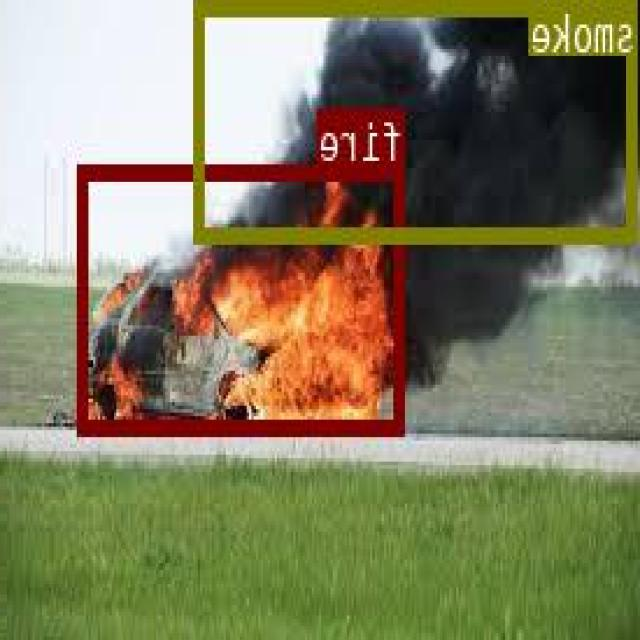fire: (81, 164, 407, 433)
smoke: (198, 0, 640, 241)
